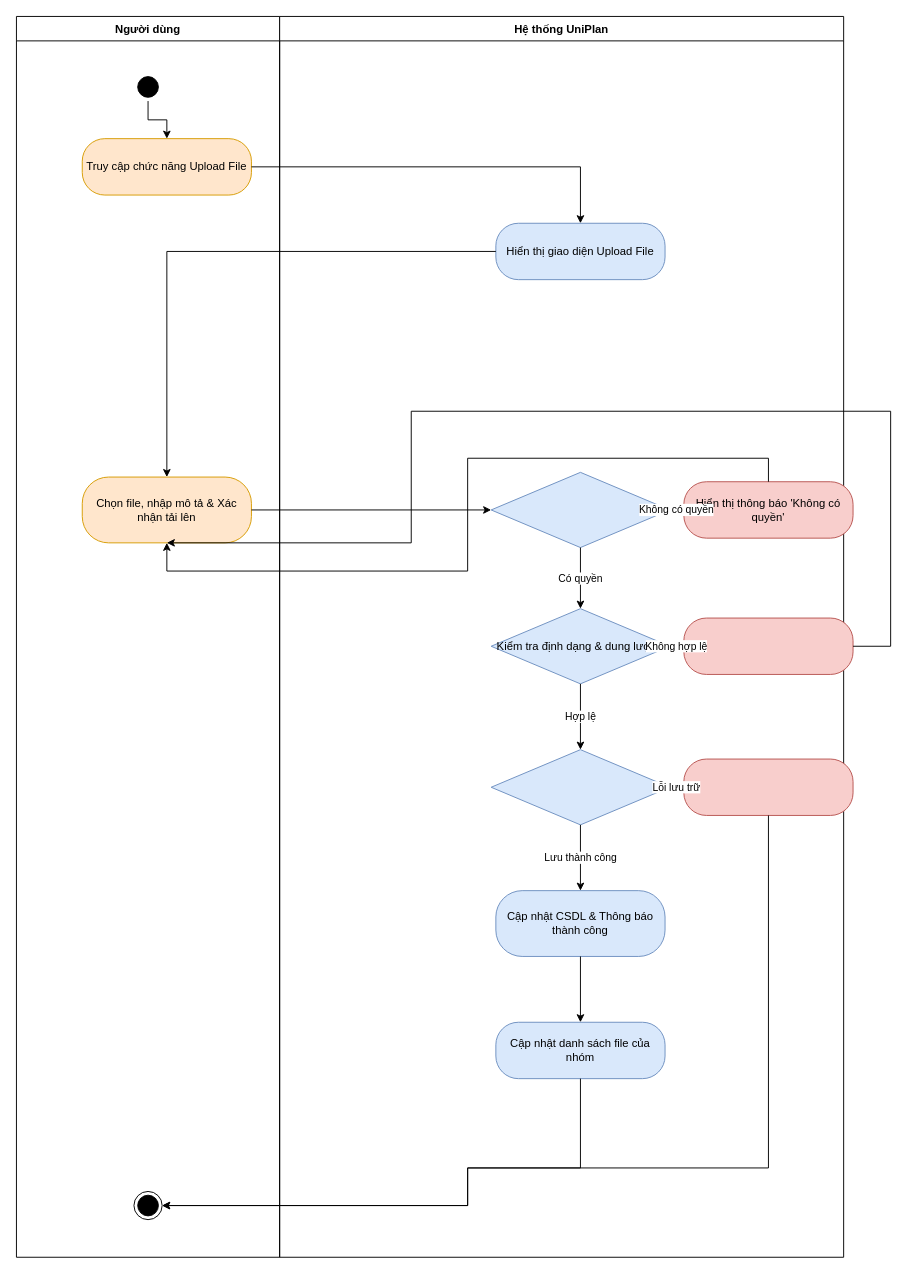
The diagram is 915 pixels wide and 1274 high, and some of its shapes have lost their labels. The shapes that lost their labels are listed below. From the top down, each one's centre as x and y in pixels, then its label:
(x=580, y=509): Kiểm tra quyền upload
(x=768, y=645): Hiển thị lỗi định dạng/dung lượng
(x=580, y=787): Lưu file vào hệ thống
(x=768, y=786): Hiển thị lỗi 'Lưu trữ thất bại'
